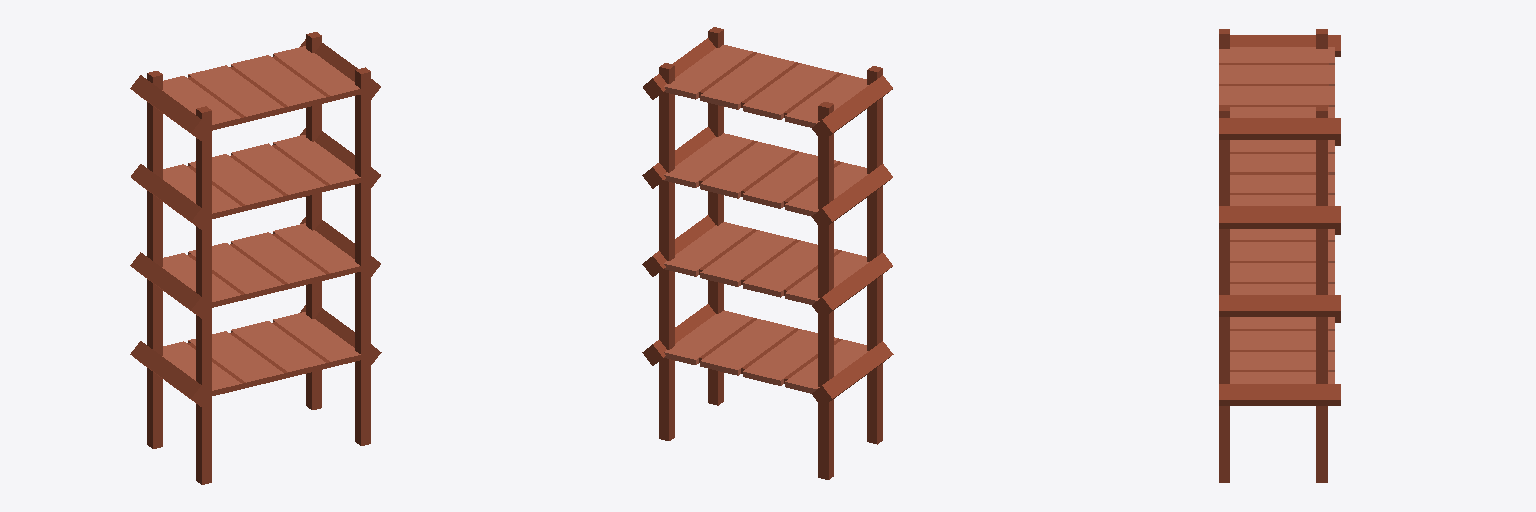
File: TallShelf1.obj
The picture shows the model from 3 angles: view 1: azimuth 30°, elevation 25°; view 2: azimuth 150°, elevation 25°; view 3: azimuth 270°, elevation 25°; orthographic projection.
Visible parts, largest first — view 1: mergedBlocks; view 2: mergedBlocks; view 3: mergedBlocks.
Boxes of the visible parts, box(x1,y1,x2,y2) form: mergedBlocks: box(130, 32, 381, 484); mergedBlocks: box(642, 27, 893, 479); mergedBlocks: box(1219, 29, 1340, 482).
Bounding box in the file's own units: 1.12 × 2.1 × 0.627.